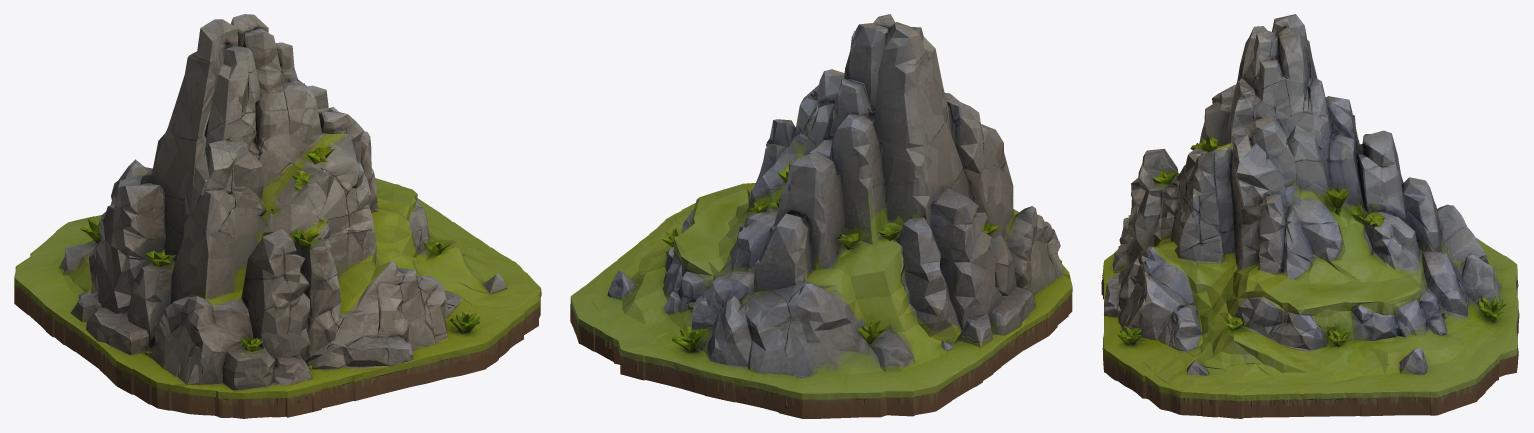
The model's file is knd_mountain_neon_01.glb.
The picture shows the model from 3 angles, left to right: view 1: azimuth 30°, elevation 25°; view 2: azimuth 150°, elevation 25°; view 3: azimuth 270°, elevation 25°; orthographic projection. The views are drawn at different scales.
Visible parts, largest first — view 1: tripo_node_76247d94-c171-464f-9ff7-ff652a5e6c6d; view 2: tripo_node_76247d94-c171-464f-9ff7-ff652a5e6c6d; view 3: tripo_node_76247d94-c171-464f-9ff7-ff652a5e6c6d.
Part boxes in pixels (x1,y1,x2,y2): tripo_node_76247d94-c171-464f-9ff7-ff652a5e6c6d: [14, 14, 541, 418]; tripo_node_76247d94-c171-464f-9ff7-ff652a5e6c6d: [570, 14, 1072, 418]; tripo_node_76247d94-c171-464f-9ff7-ff652a5e6c6d: [1101, 14, 1519, 418].
Bounding box in the file's own units: 0.9812 × 0.7355 × 0.9781.
Materials: 1 (1 with a texture image).
